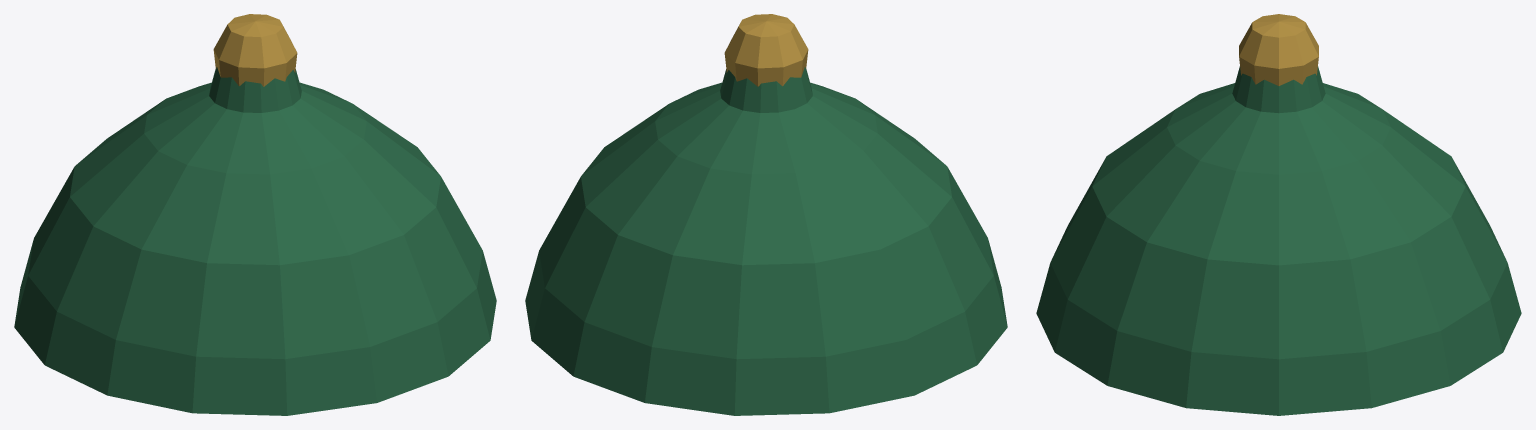
Rendered from pendant_dome.fbx.
The picture shows the model from 3 angles, left to right: view 1: azimuth 30°, elevation 25°; view 2: azimuth 150°, elevation 25°; view 3: azimuth 270°, elevation 25°; orthographic projection.
Visible parts, largest first — view 1: pendant_dome_LOD0; view 2: pendant_dome_LOD0; view 3: pendant_dome_LOD0.
Boxes of the visible parts, box(x1,y1,x2,y2) form: pendant_dome_LOD0: box(14, 14, 496, 415); pendant_dome_LOD0: box(525, 14, 1007, 415); pendant_dome_LOD0: box(1036, 14, 1521, 415).
Size of what is drawn, in the model's own units: 0.52 by 0.345 by 0.52.
Materials: 1 (1 with a texture image).
